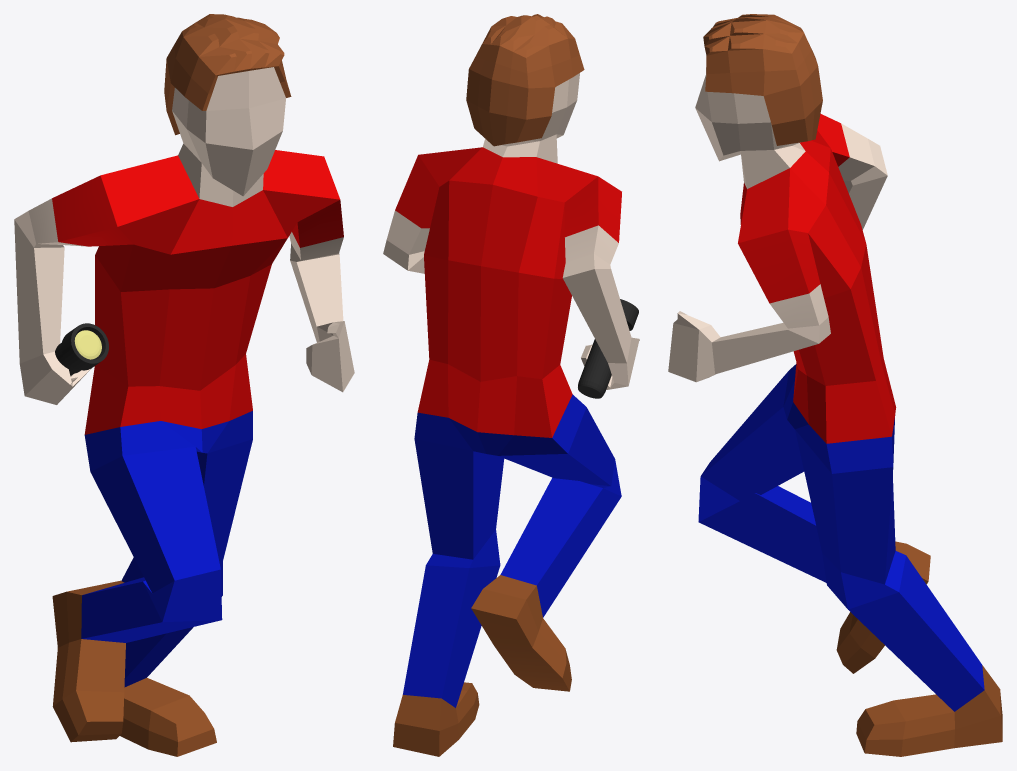
The model's file is Human_running_12.fbx.
The picture shows the model from 3 angles, left to right: view 1: azimuth 30°, elevation 25°; view 2: azimuth 150°, elevation 25°; view 3: azimuth 270°, elevation 25°; orthographic projection. The views are drawn at different scales.
Parts seen in each view (by area): view 1: Person.004, Flashlight; view 2: Person.004, Flashlight; view 3: Person.004.
Part boxes in pixels (<box>): Person.004: <box>14,14,354,756</box>; Flashlight: <box>55,323,108,375</box>; Person.004: <box>383,14,639,756</box>; Flashlight: <box>578,299,638,398</box>; Person.004: <box>668,14,1002,756</box>.
Bounding box in the file's own units: 0.6065 × 1.5 × 0.6328.
